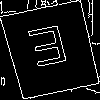E: (25, 25, 73, 77)
